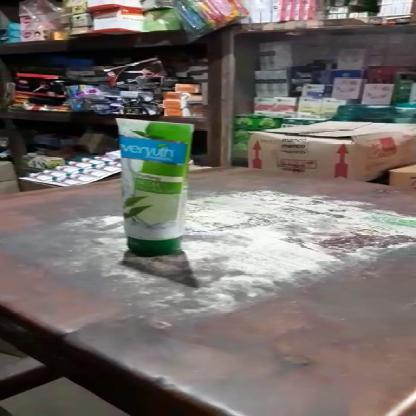EY NATURALS NEEM FACE WASH AY 50G: (115, 118, 196, 255)
